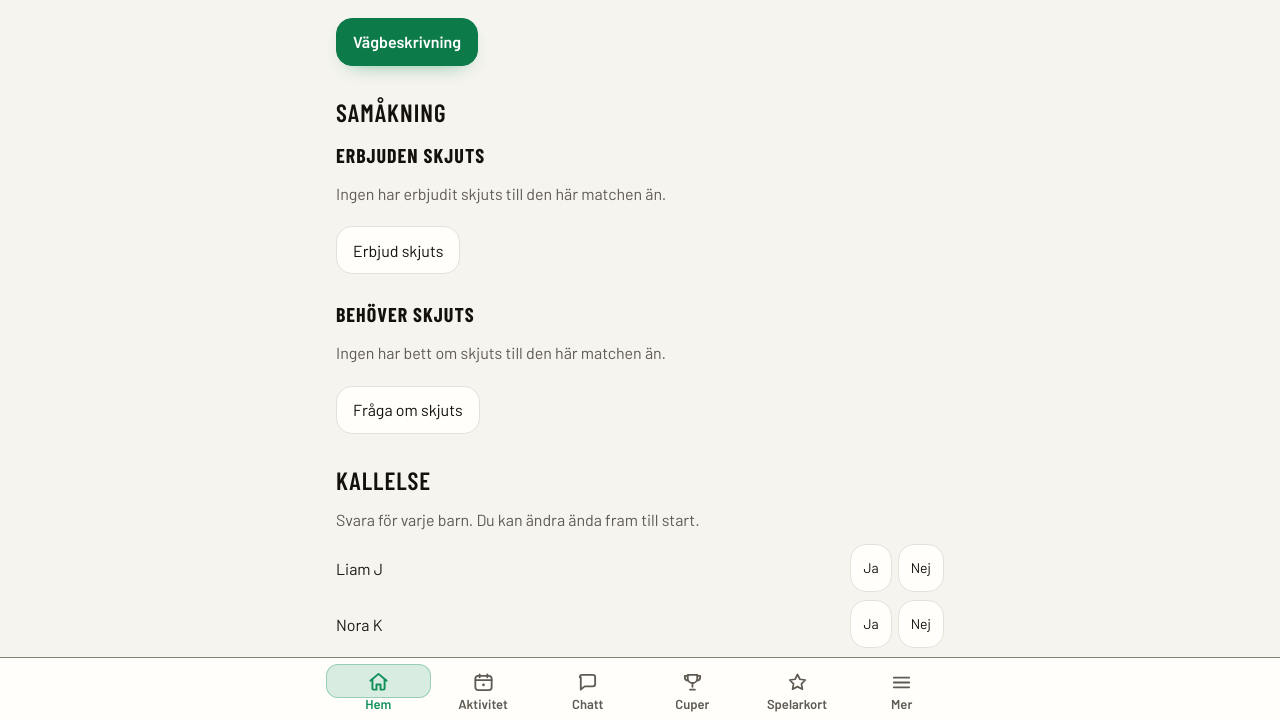
vårdnadshavaren svarar per barn › namnger vilket barns svar som misslyckades vid delfel (#592)
(page scrolled)
Click the button "Ja" in the row of "Liam J" at (871, 568), box [850,544,892,592]
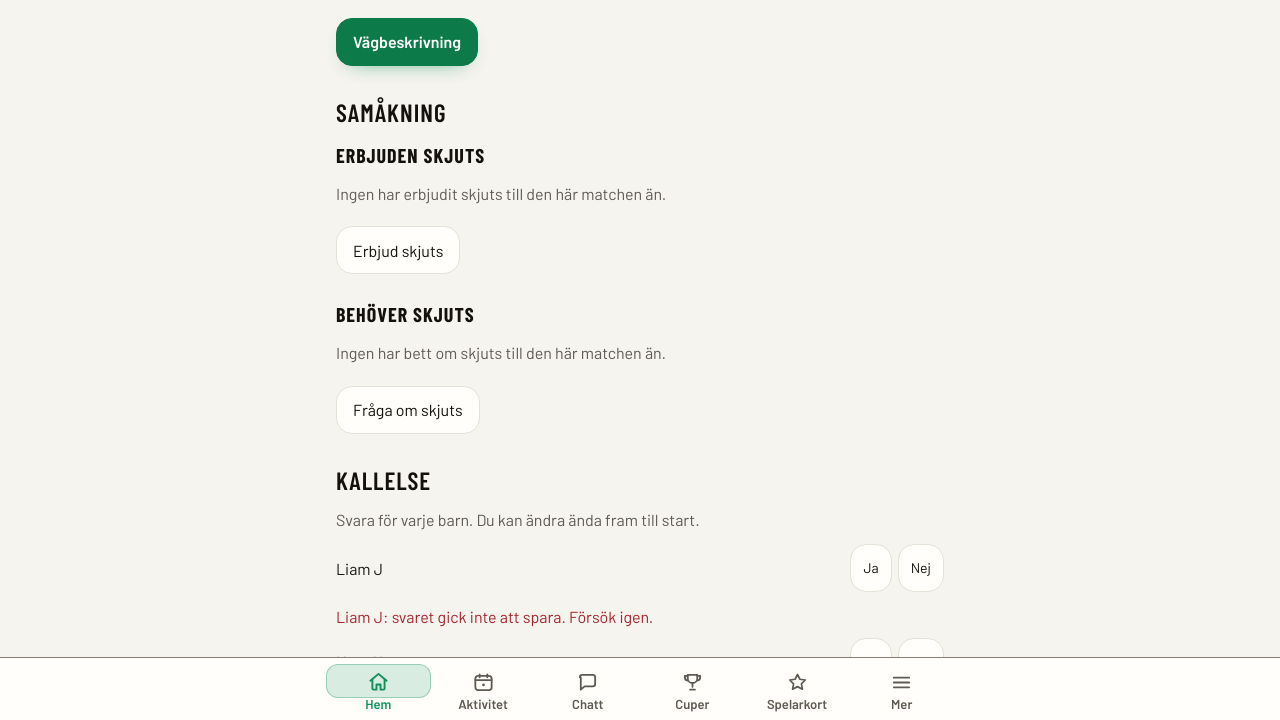
Result: the message shows "Liam J" at [336,607,383,626]
